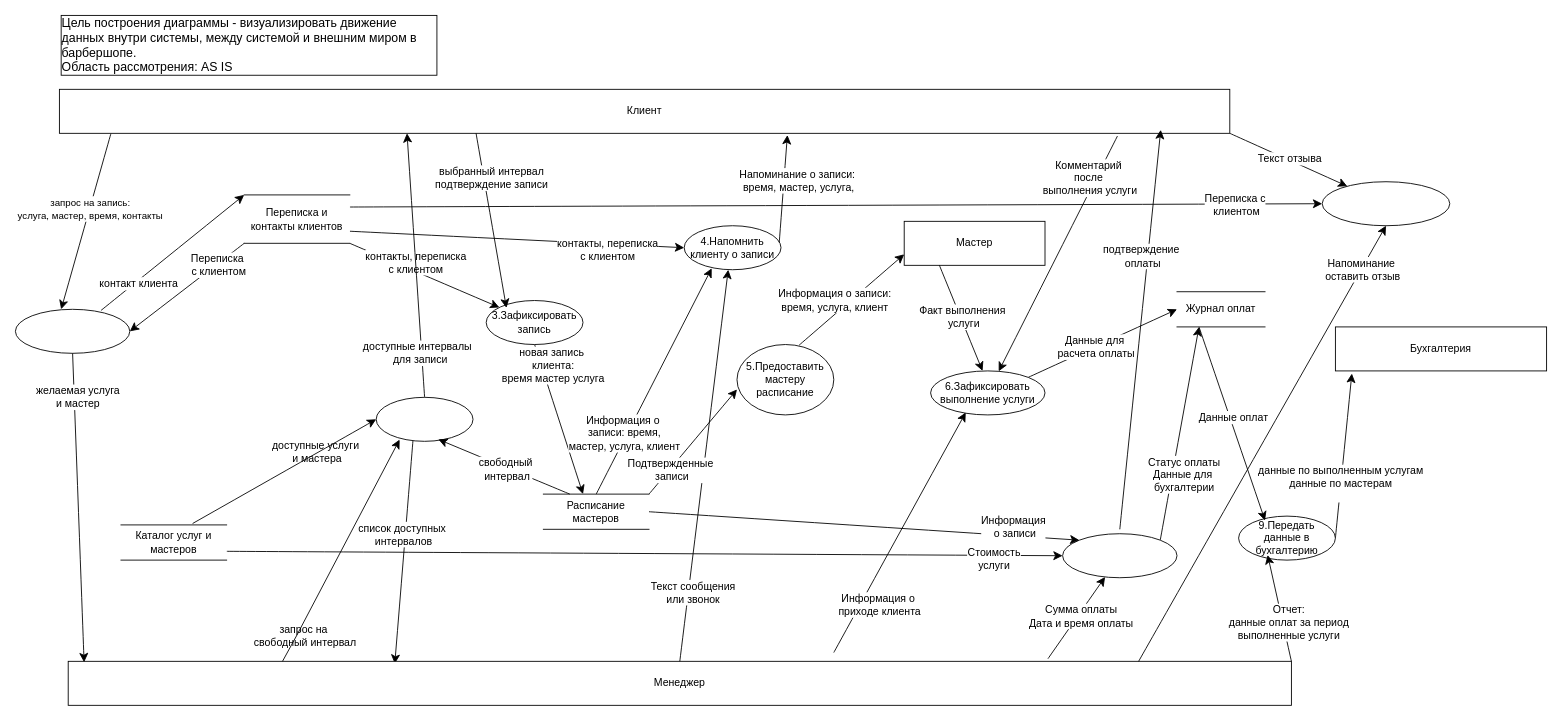
Image size: 1562x721. Some labels were removed from this diagram. Each missing label, with the centre of its shape:
"1.Принять заявку на запись" belongs at point 72,330.
"2.Подобрать интервал записи" belongs at point 424,418.
"7.Зарегистрировать оплату" belongs at point 1119,555.
"8.Зарегистрировать отзыв клиента" belongs at point 1385,203.
